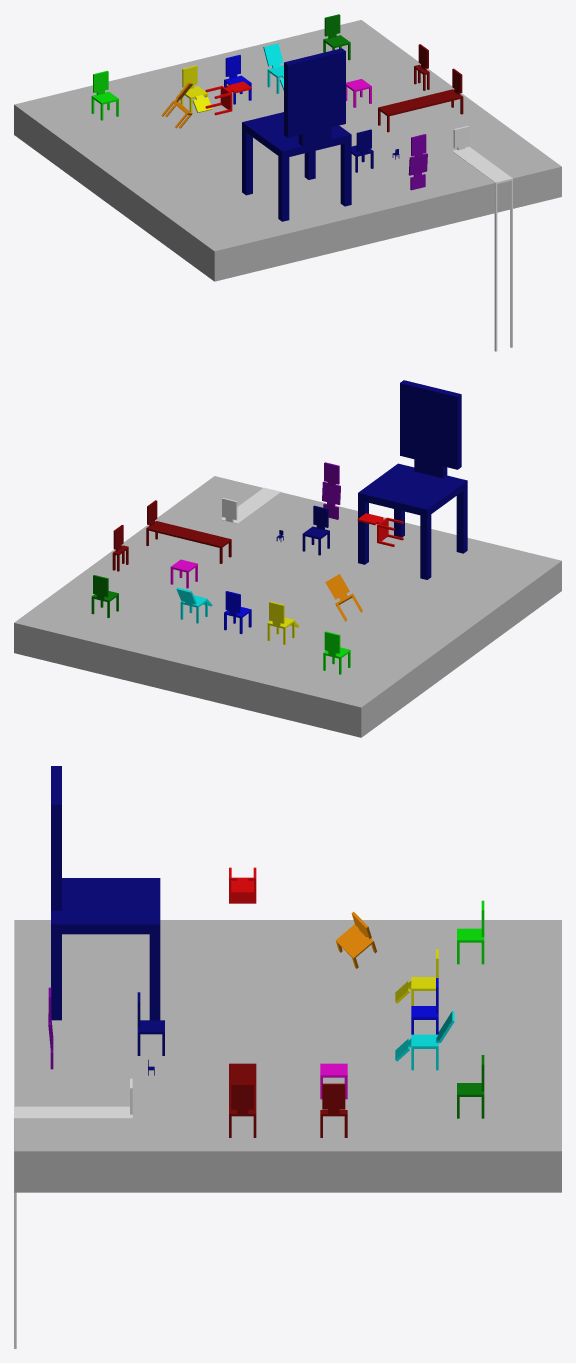
File: seats.fbx
3 views of the same model, one above another, from view 1: azimuth 30°, elevation 25°; view 2: azimuth 150°, elevation 25°; view 3: azimuth 270°, elevation 25° (orthographic). The views are drawn at different scales.
Parts seen in each view (by area): view 1: FloorMesh, HugeChairFacingNorthMesh, SimpleChairSouthCliffMesh, DeepChairFacingWestMesh, StandingSeatMesh, ReclinerChairLegsMesh, RotatingChairMesh, MovingChairMesh, ReclinerChairFullMesh, SimpleChairFacingDownMesh, SimpleChairFacingSouthMesh, MediumChairFacingNorthMesh (+2 smaller); view 2: FloorMesh, HugeChairFacingNorthMesh, DeepChairFacingWestMesh, SimpleChairSouthCliffMesh, StandingSeatMesh, MediumChairFacingNorthMesh, ReclinerChairLegsMesh, SimpleChairFacingSouthMesh, MovingChairMesh, RotatingChairMesh, SimpleChairFacingDownMesh, SimpleChairWhatMesh (+2 smaller); view 3: FloorMesh, HugeChairFacingNorthMesh, SimpleChairSouthCliffMesh, DeepChairFacingWestMesh, SimpleChairWhatMesh, ReclinerChairFullMesh, ShallowChairFacingWestMesh, SimpleChairFacingDownMesh.
Boxes of the visible parts, left/top/right/bottom form: FloorMesh: left=14, top=20, right=561, bottom=281; HugeChairFacingNorthMesh: left=242, top=48, right=351, bottom=221; SimpleChairSouthCliffMesh: left=452, top=126, right=512, bottom=351; DeepChairFacingWestMesh: left=378, top=68, right=463, bottom=132; StandingSeatMesh: left=408, top=134, right=427, bottom=190; ReclinerChairLegsMesh: left=180, top=65, right=212, bottom=114; RotatingChairMesh: left=91, top=70, right=118, bottom=120; MovingChairMesh: left=323, top=14, right=350, bottom=60; ReclinerChairFullMesh: left=263, top=43, right=283, bottom=93; SimpleChairFacingDownMesh: left=205, top=81, right=251, bottom=115; SimpleChairFacingSouthMesh: left=224, top=55, right=251, bottom=104; MediumChairFacingNorthMesh: left=351, top=129, right=373, bottom=172; FloorMesh: left=14, top=476, right=561, bottom=737; HugeChairFacingNorthMesh: left=358, top=380, right=467, bottom=579; DeepChairFacingWestMesh: left=146, top=500, right=231, bottom=563; SimpleChairSouthCliffMesh: left=220, top=487, right=280, bottom=523; StandingSeatMesh: left=322, top=462, right=340, bottom=519; MediumChairFacingNorthMesh: left=302, top=505, right=329, bottom=555; ReclinerChairLegsMesh: left=267, top=601, right=299, bottom=644; SimpleChairFacingSouthMesh: left=224, top=591, right=251, bottom=634; MovingChairMesh: left=91, top=575, right=118, bottom=617; RotatingChairMesh: left=323, top=631, right=350, bottom=674; SimpleChairFacingDownMesh: left=357, top=513, right=403, bottom=546; SimpleChairWhatMesh: left=325, top=574, right=362, bottom=621; FloorMesh: left=14, top=920, right=561, bottom=1192; HugeChairFacingNorthMesh: left=51, top=766, right=160, bottom=1020; SimpleChairSouthCliffMesh: left=14, top=1078, right=132, bottom=1348; DeepChairFacingWestMesh: left=229, top=1063, right=256, bottom=1137; SimpleChairWhatMesh: left=335, top=911, right=376, bottom=968; ReclinerChairFullMesh: left=395, top=1011, right=454, bottom=1070; ShallowChairFacingWestMesh: left=320, top=1083, right=347, bottom=1137; SimpleChairFacingDownMesh: left=229, top=867, right=256, bottom=903.
Bounding box in the file's own units: 12 × 12.01 × 10.69.
